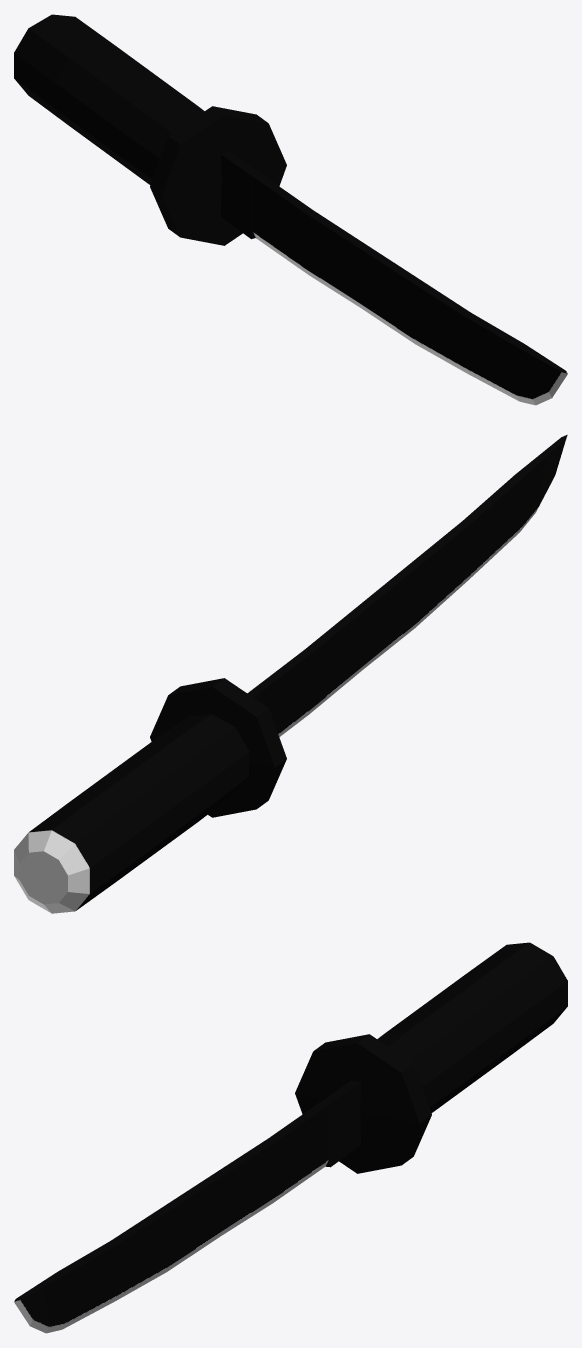
Rendered from Sword.fbx.
3 views of the same model, one above another, from view 1: azimuth 30°, elevation 25°; view 2: azimuth 150°, elevation 25°; view 3: azimuth 330°, elevation 25° (orthographic).
Visible parts, largest first — view 1: Espada; view 2: Espada; view 3: Espada.
Part boxes in pixels (x1=…): Espada: x1=14, y1=14, x2=567, y2=405; Espada: x1=14, y1=434, x2=567, y2=913; Espada: x1=14, y1=942, x2=567, y2=1333.
Size of the model in its own units: 14.99 by 14.99 by 109.
